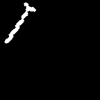half_double_crochet: (5, 3, 35, 42)
